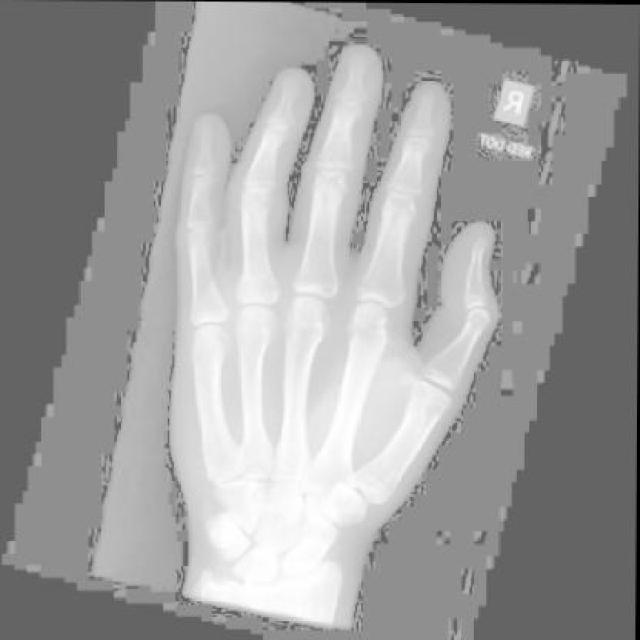Fracture: (236, 265, 287, 309)
